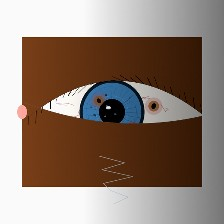foreign_body_visible: (139, 94, 168, 118)
